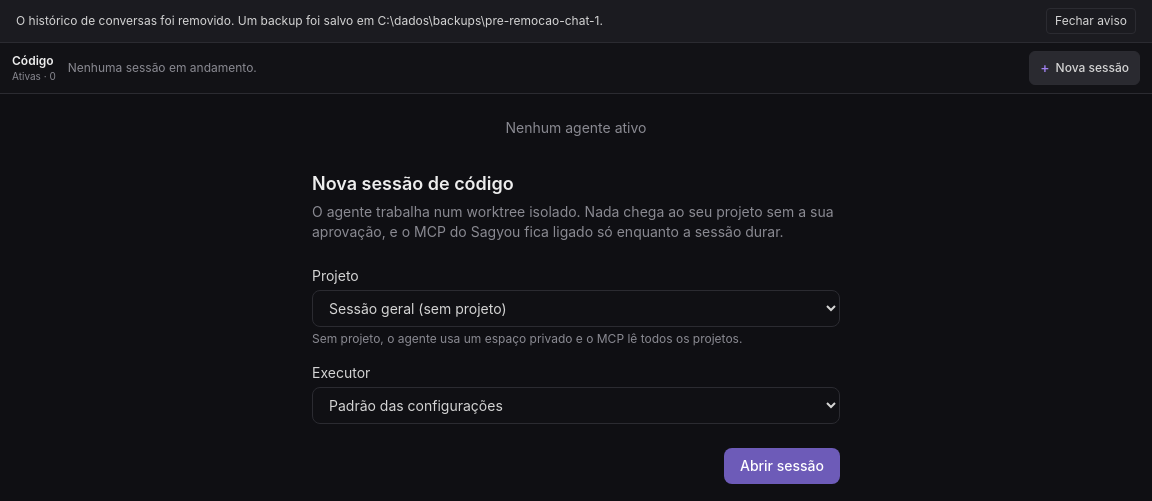
Scenario: FleetView › shows the one-time removal notice with the snapshot path and dismisses it
Expected: the text "O histórico de conversas foi removido. Um backup foi salvo em C:\\dados\\backups\\pre-remocao-chat-1." is shown, [16, 13, 603, 28]
Click the button "Fechar aviso" at (1091, 21), box [1046, 8, 1136, 34]
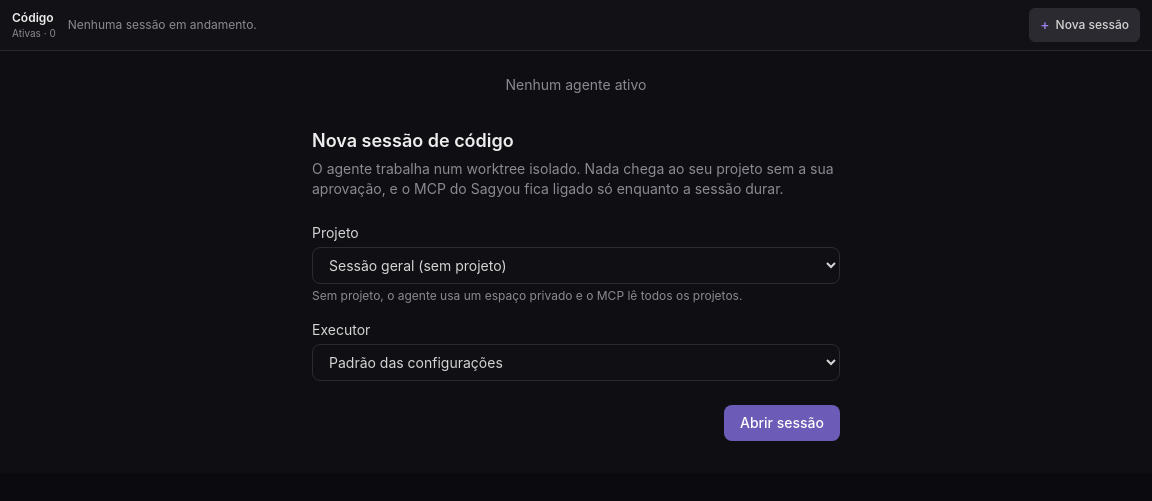
Expected: the text "O histórico de conversas foi removido" is gone
